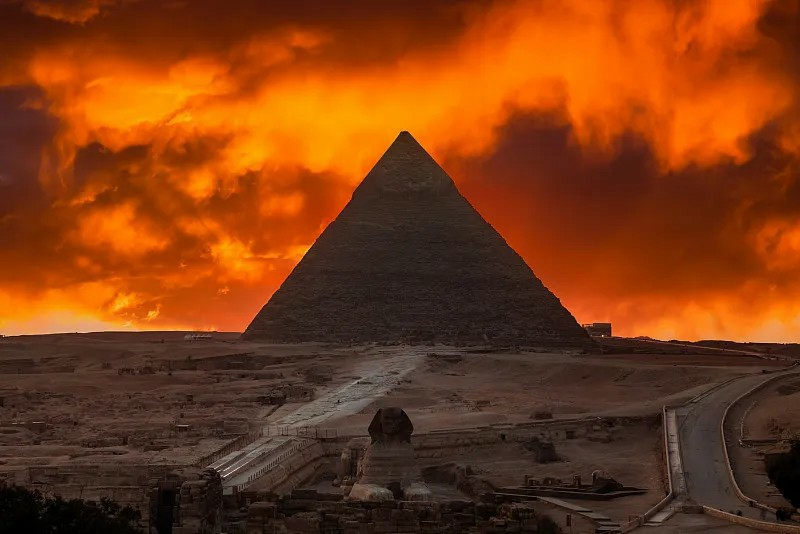Pyramid: (240, 132, 599, 345)
